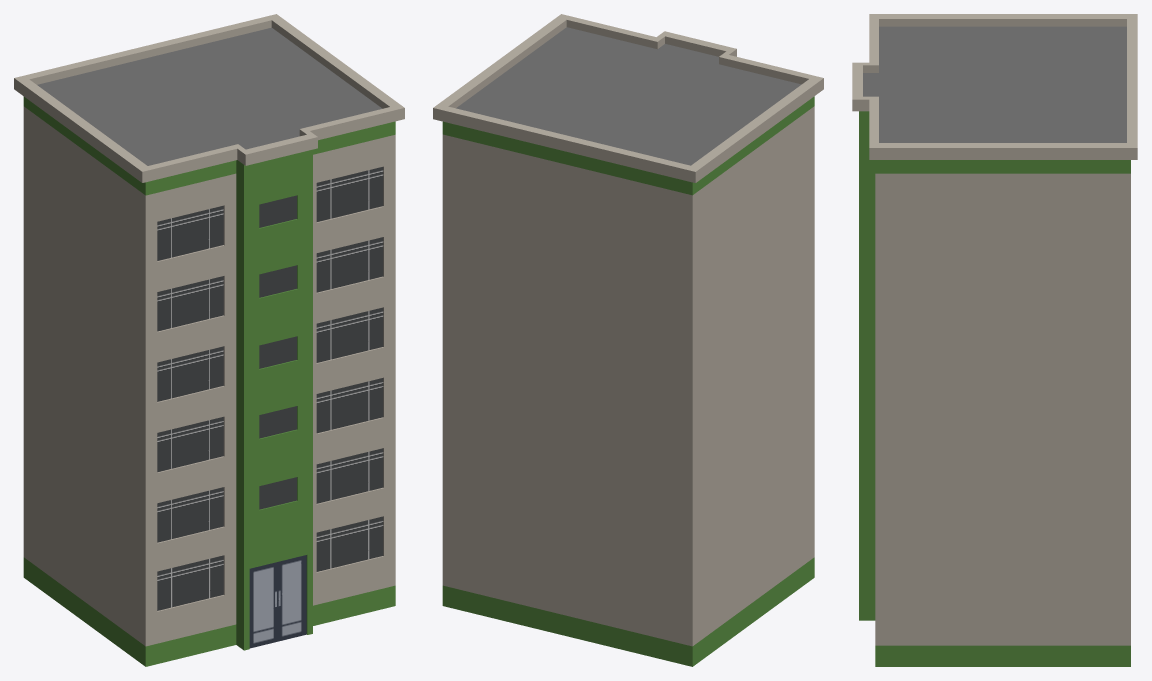
File: building-sky-big-color01.glb
The picture shows the model from 3 angles, left to right: view 1: azimuth 30°, elevation 25°; view 2: azimuth 150°, elevation 25°; view 3: azimuth 270°, elevation 25°; orthographic projection. The views are drawn at different scales.
Parts seen in each view (by area): view 1: Building Sky_big_color01; view 2: Building Sky_big_color01; view 3: Building Sky_big_color01.
Boxes of the visible parts, x1,y1,x2,y2 form: Building Sky_big_color01: (14, 14, 404, 666); Building Sky_big_color01: (433, 14, 823, 666); Building Sky_big_color01: (852, 14, 1137, 666).
Size of the model in its own units: 13.66 by 24.8 by 12.3.
Materials: 1 (1 with a texture image).
